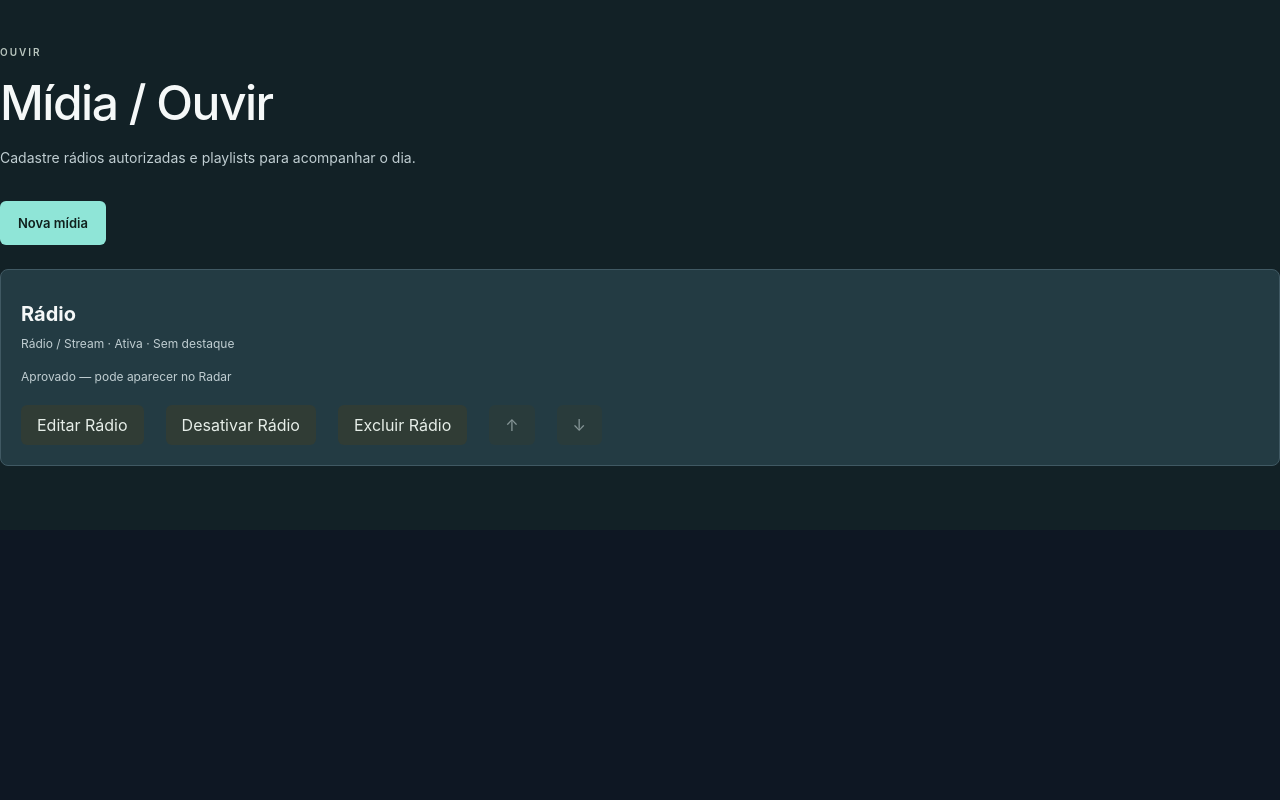
Test: exclusão exige confirmação e cancelar não persiste
Expected: the button "Nova mídia" is enabled, x1=0 y1=201 x2=106 y2=245
Click the button "Excluir Rádio".
click(403, 425)  # box x1=338 y1=405 x2=467 y2=445
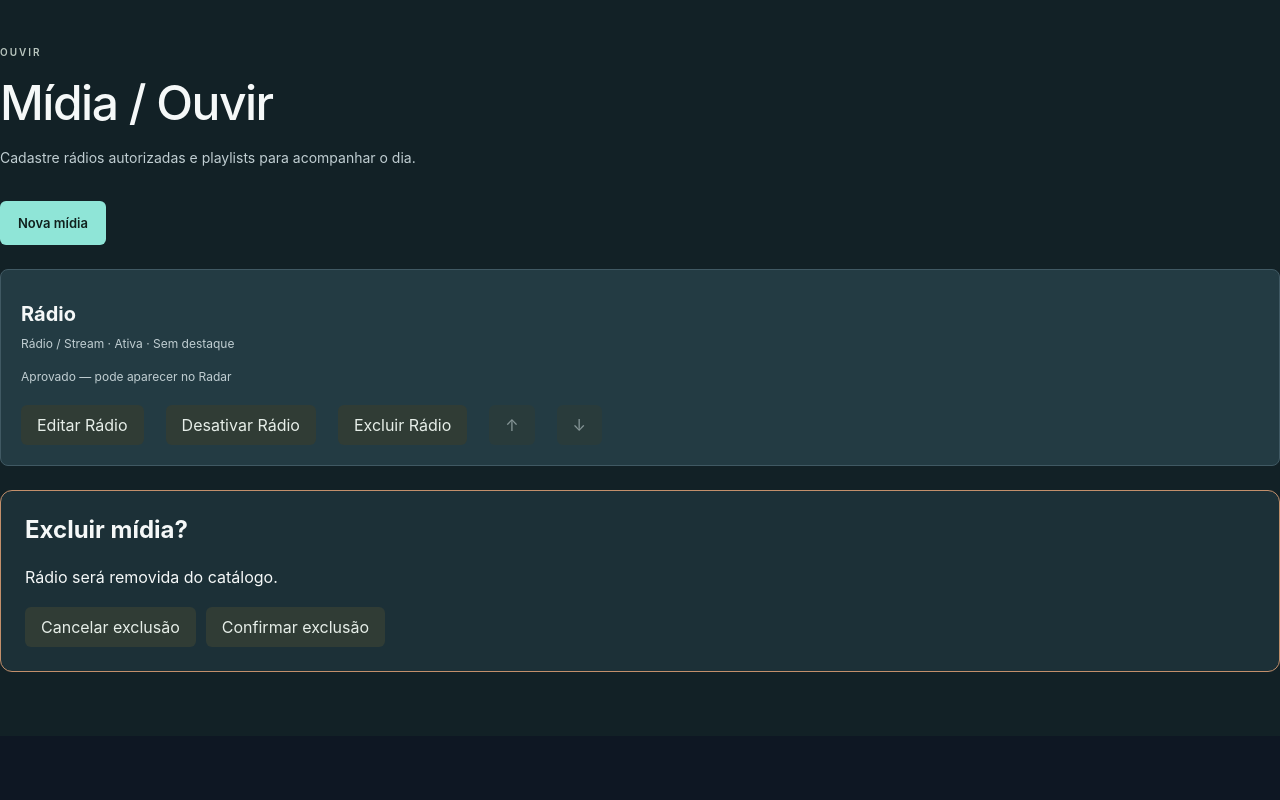
Expected: the dialog is shown, x1=0 y1=490 x2=1279 y2=672
Click the button "Cancelar exclusão".
click(110, 627)  # box x1=25 y1=607 x2=196 y2=647
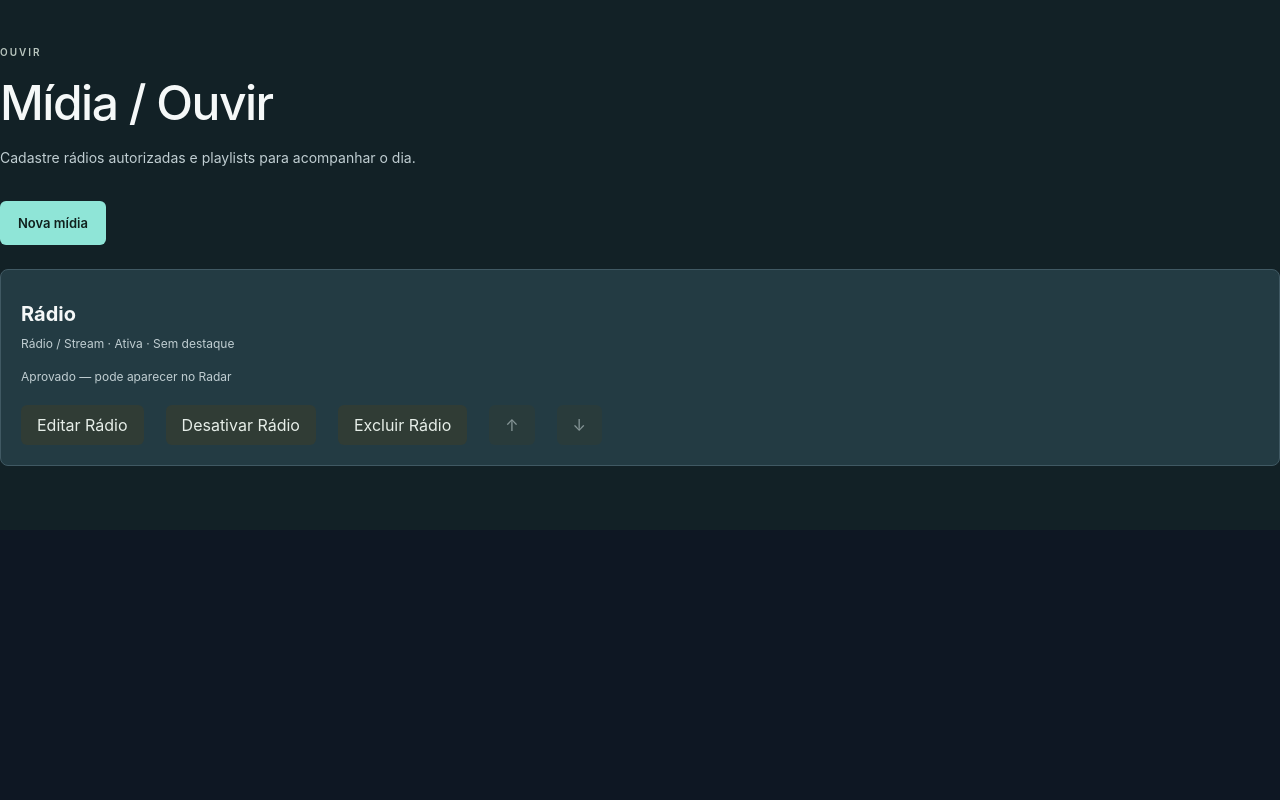
Click the button "Excluir Rádio".
click(403, 425)  # box x1=338 y1=405 x2=467 y2=445
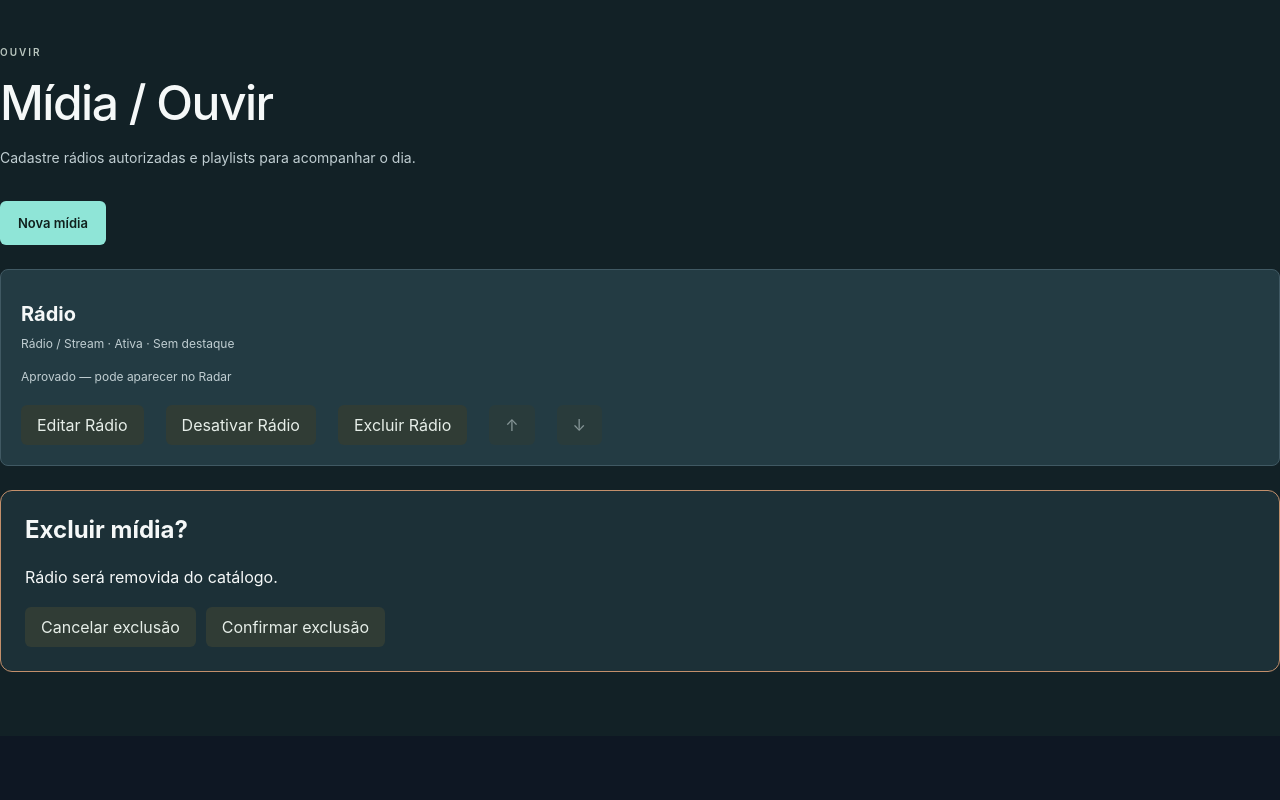
Click the button "Confirmar exclusão".
click(295, 627)  # box x1=206 y1=607 x2=385 y2=647
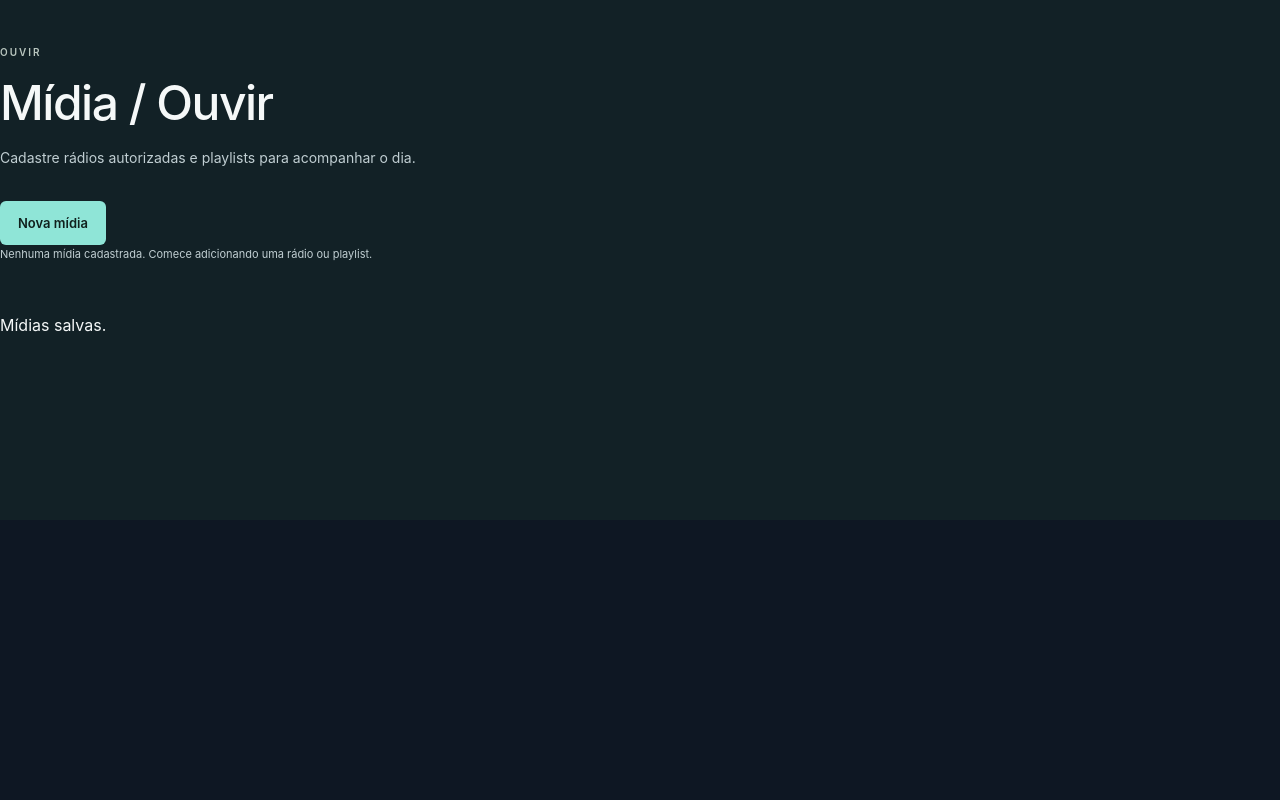
Expected: the text "Mídias salvas." is shown, x1=0 y1=315 x2=106 y2=335
